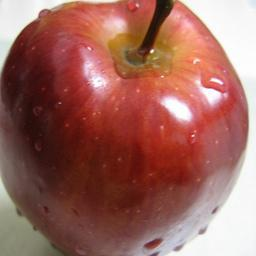apple: (0, 1, 249, 254)
